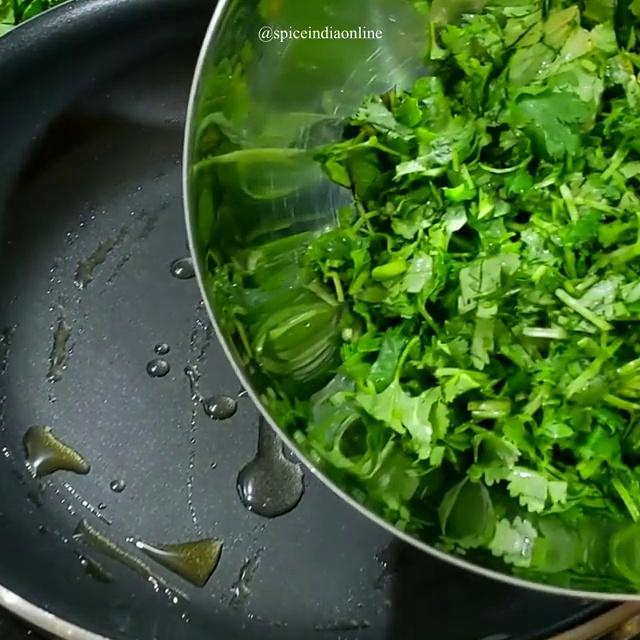cilantro: (377, 36, 640, 486)
